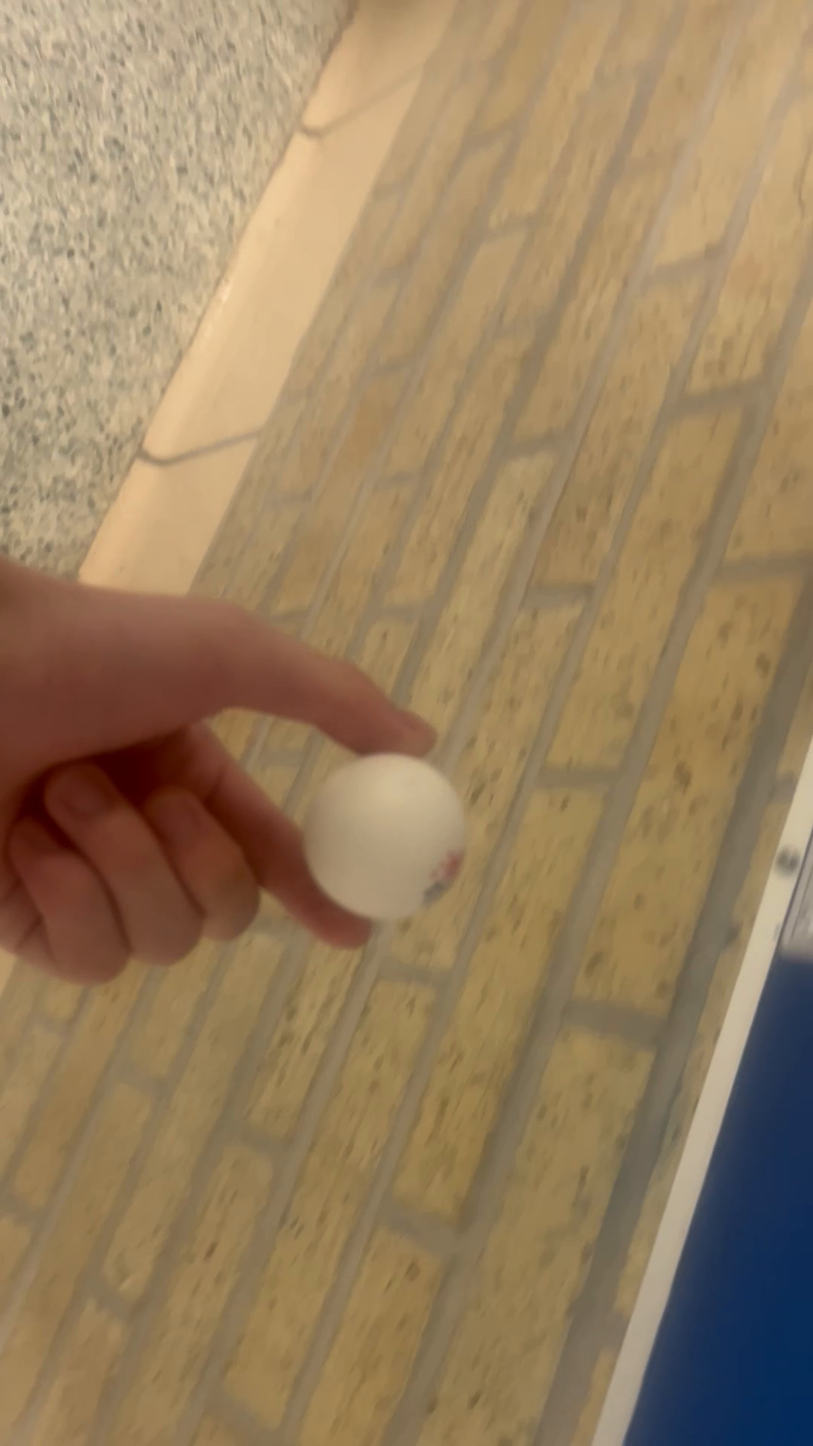Ball: (274, 746, 472, 933)
